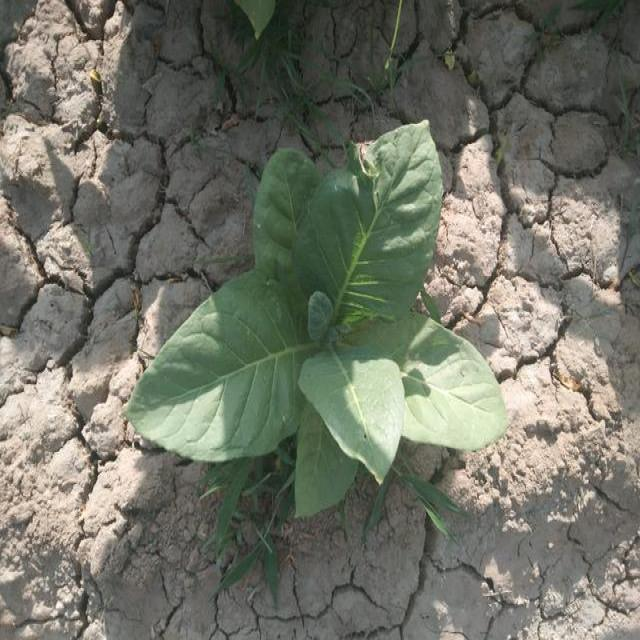crop: (130, 126, 508, 500)
